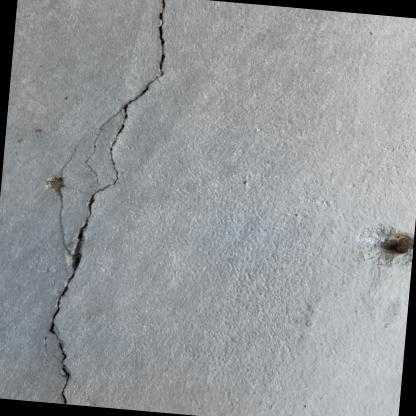crack: (49, 0, 166, 404), (85, 108, 121, 186)
